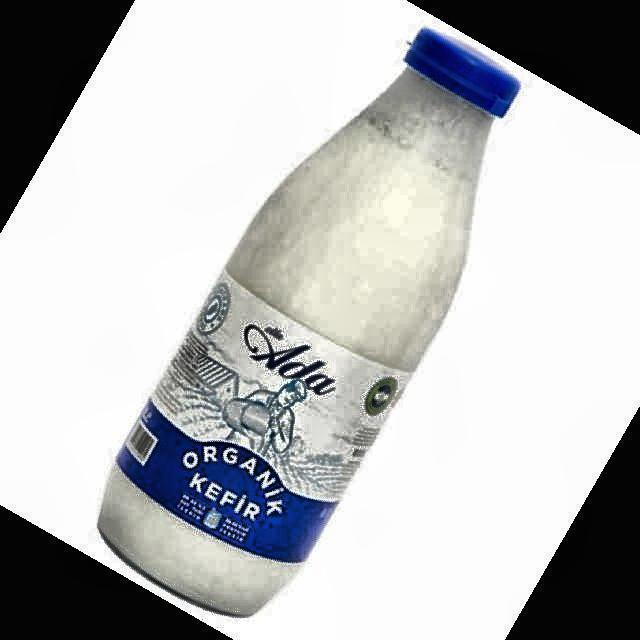plastic: (99, 29, 519, 614)
